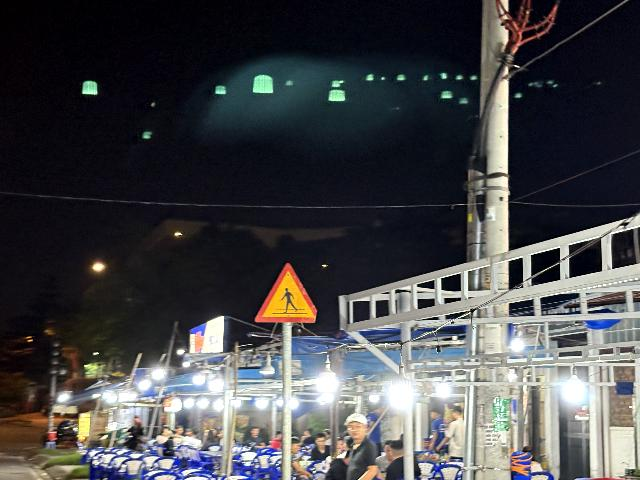duong-nguoi-di-bo-cat-ngang: (255, 262, 317, 323)
